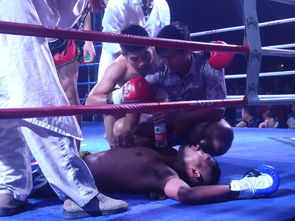fall: (1, 135, 294, 205)
